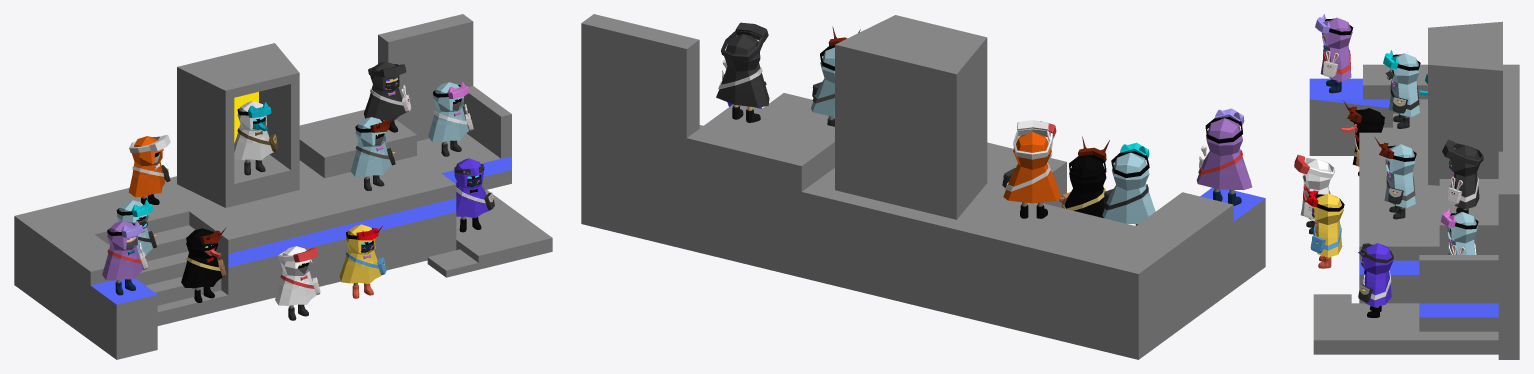
The model's file is people_GLTF.gltf.
3 renders of one model, left to right at view 1: azimuth 30°, elevation 25°; view 2: azimuth 150°, elevation 25°; view 3: azimuth 270°, elevation 25°, orthographic. The views are drawn at different scales.
Parts seen in each view (by area): view 1: bg, Body.002, Body.005, Body, Body.014, Body.012, Body.018, Body.010, Body.001, Body.008, Body.020, Body.016; view 2: bg, Body.005, Body.018, Body.001, Body.016, Body, Body.002, VR01, VR01.002, VR02.001, VR03.003, VR03; view 3: bg, Body.020, Body.010, Body.002, Body.016, Body.001, Body.005, Body.014, Body.012, Body, VR01, VR01.001 (+13 smaller).
Part boxes in pixels (box(x1,y1,x2,y2)): bg: box(14, 14, 552, 359); Body.002: box(350, 117, 391, 176); Body.005: box(102, 220, 143, 280); Body: box(181, 228, 222, 288); Body.014: box(428, 82, 468, 142); Body.012: box(275, 246, 316, 305); Body.018: box(128, 136, 165, 197); Body.010: box(339, 224, 382, 283); Body.001: box(364, 61, 406, 120); Body.008: box(234, 101, 273, 160); Body.020: box(454, 158, 490, 218); Body.016: box(117, 200, 152, 257); bg: box(581, 14, 1265, 359); Body.005: box(1196, 118, 1252, 190); Body.018: box(1003, 131, 1061, 203); Body.001: box(716, 34, 769, 107); Body.016: box(1102, 152, 1155, 223); Body: box(1064, 156, 1106, 217); Body.002: box(811, 47, 834, 117); VR01: box(721, 22, 768, 61); VR01.002: box(1013, 120, 1051, 159); VR02.001: box(1069, 136, 1109, 180); VR03.003: box(1111, 142, 1149, 177); VR03: box(1205, 108, 1244, 143); bg: box(1309, 21, 1519, 359); Body.020: box(1358, 243, 1393, 307); Body.010: box(1308, 193, 1343, 257); Body.002: box(1381, 144, 1416, 207); Body.016: box(1386, 53, 1419, 116); Body.001: box(1449, 145, 1479, 209); Body.005: box(1318, 17, 1352, 81); Body.014: box(1443, 212, 1477, 254); Body.012: box(1300, 159, 1332, 221); Body: box(1350, 108, 1384, 165); VR01: box(1442, 139, 1483, 165); VR01.001: box(1294, 154, 1334, 178).
Bounding box in the file's own units: 27.79 × 11.17 × 11.8.
